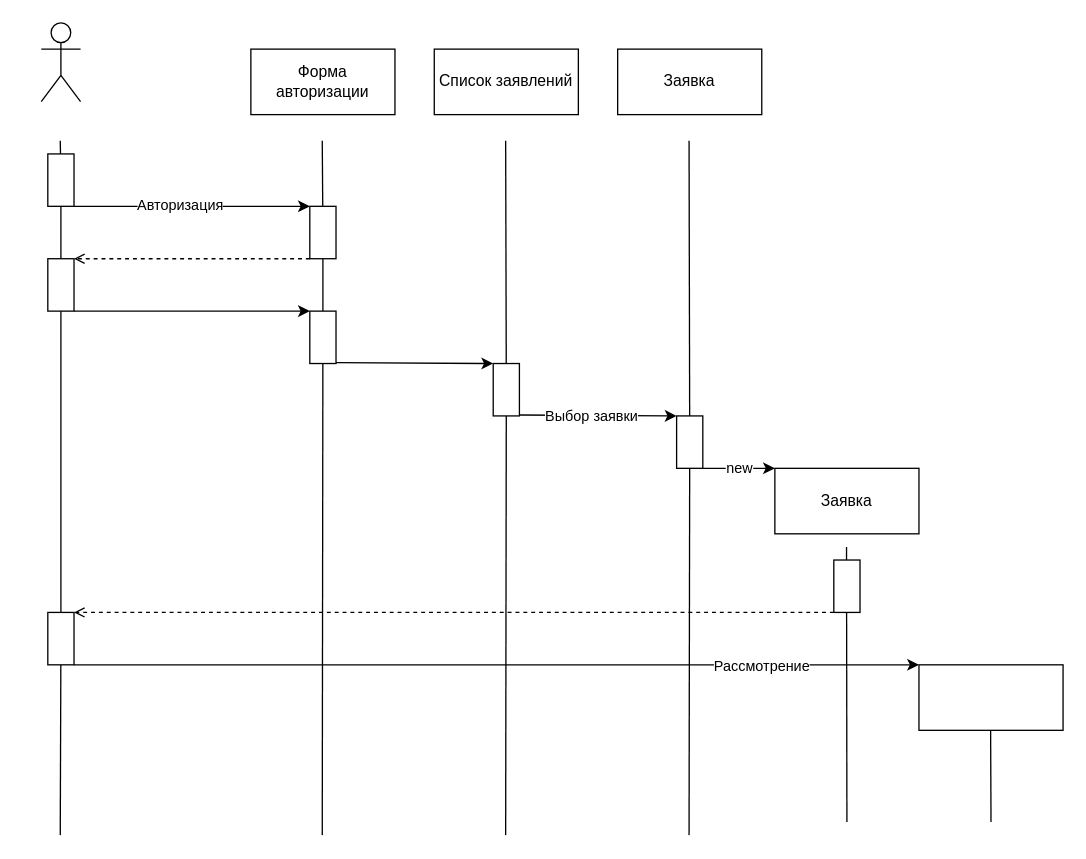
Image size: 1086x859. Some labels were removed from this diagram. The box of each missing label's shape, as (x1, y1, x2, y2) in pixels:
Сотрудник: (40, 22, 81, 102)
Статус заявки: (918, 664, 1063, 730)
